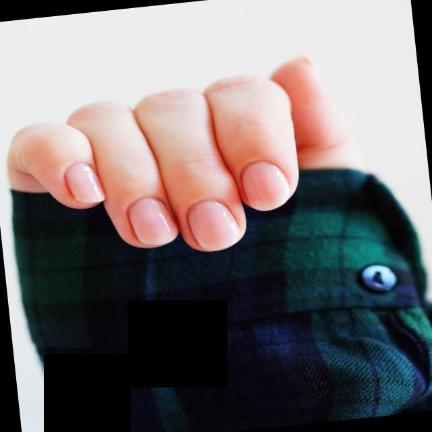Nail: (188, 200, 241, 251), (242, 161, 290, 211), (128, 198, 179, 245), (64, 162, 107, 203)
